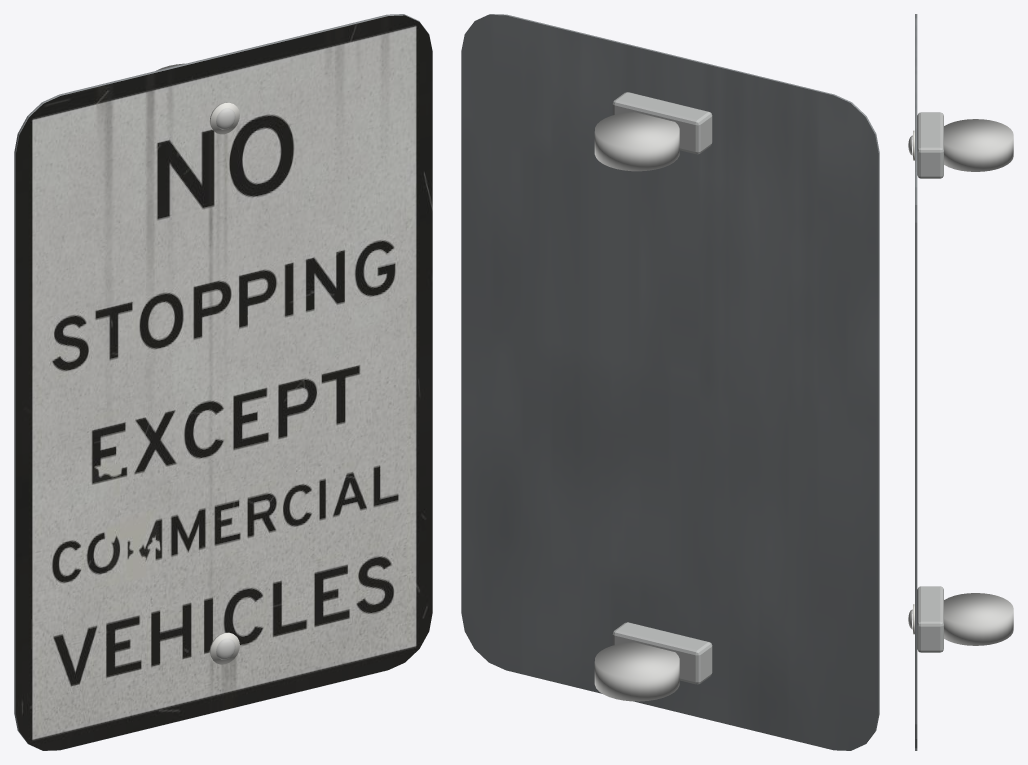
The model's file is regulatory-v1.glb.
The picture shows the model from 3 angles, left to right: view 1: azimuth 30°, elevation 25°; view 2: azimuth 150°, elevation 25°; view 3: azimuth 270°, elevation 25°; orthographic projection. The views are drawn at different scales.
Visible parts, largest first — view 1: regulatory-v1; view 2: regulatory-v1; view 3: regulatory-v1.
Boxes of the visible parts, box(x1,y1,x2,y2) form: regulatory-v1: box(14, 14, 432, 750); regulatory-v1: box(461, 14, 879, 750); regulatory-v1: box(908, 14, 1013, 750).
Size of the model in its own units: 0.3556 by 0.5334 by 0.0871.
1 material, 1 textured.
